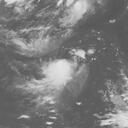cyclone: (42, 59, 74, 87)
